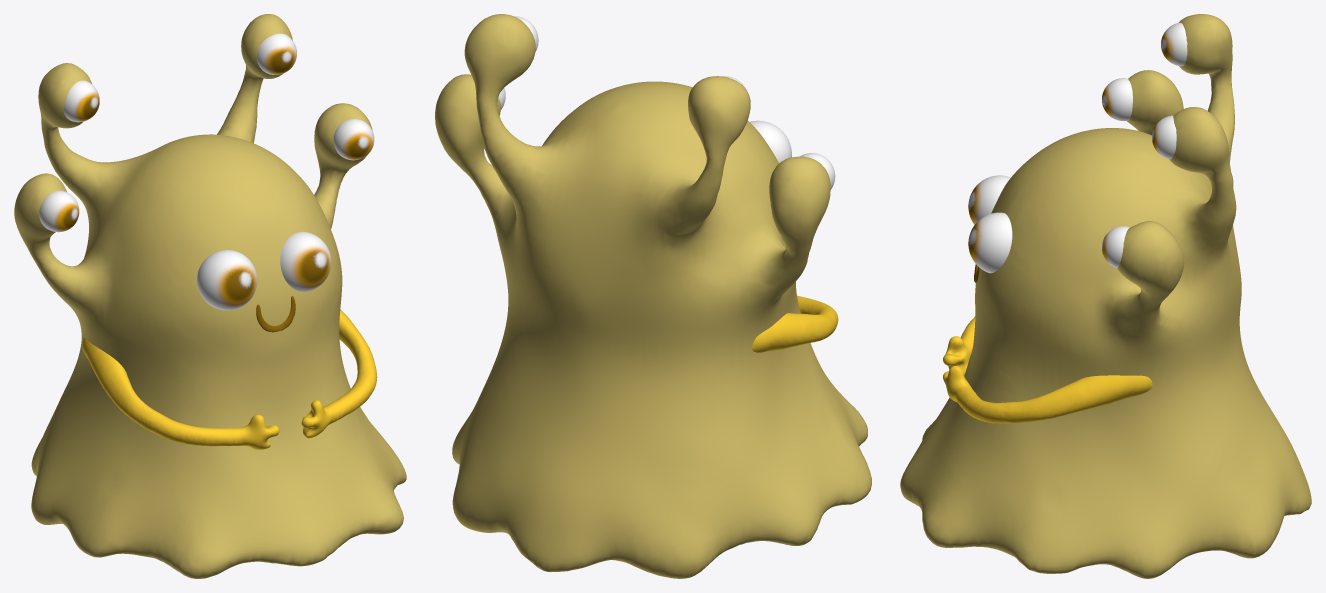
The model's file is cute_alien (3).glb.
3 renders of one model, left to right at view 1: azimuth 30°, elevation 25°; view 2: azimuth 150°, elevation 25°; view 3: azimuth 270°, elevation 25°, orthographic. The views are drawn at different scales.
Parts seen in each view (by area): view 1: Object_7, Object_3, Object_9, Object_13, Object_11; view 2: Object_7, Object_3, Object_9; view 3: Object_7, Object_3, Object_9, Object_13, Object_11.
Part boxes in pixels (x1,y1,x2,y2): Object_7: [14, 14, 406, 578]; Object_3: [82, 309, 377, 449]; Object_9: [197, 231, 331, 310]; Object_13: [39, 119, 374, 232]; Object_11: [64, 33, 296, 122]; Object_7: [435, 14, 871, 578]; Object_3: [752, 295, 838, 352]; Object_9: [750, 120, 791, 162]; Object_7: [900, 14, 1311, 578]; Object_3: [943, 316, 1152, 423]; Object_9: [968, 175, 1012, 273]; Object_13: [1102, 78, 1132, 267]; Object_11: [1152, 22, 1187, 159].
Bounding box in the file's own units: 3.03 × 3.64 × 3.04.
